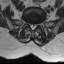CCS_normal: (32, 21, 34, 32)
LFS_stenosis: (37, 20, 39, 27)
LLS_normal: (34, 21, 37, 30)
RFS_stenosis: (27, 19, 29, 27)
RLS_normal: (29, 21, 32, 31)
